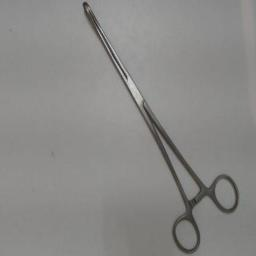Sponge Forceps: (80, 1, 244, 255)
